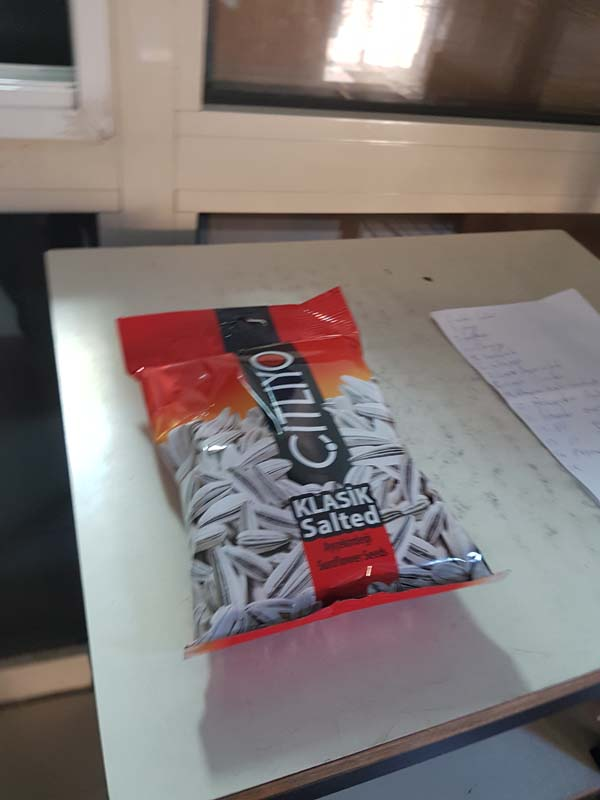citliyorklasik: (97, 283, 512, 657)
